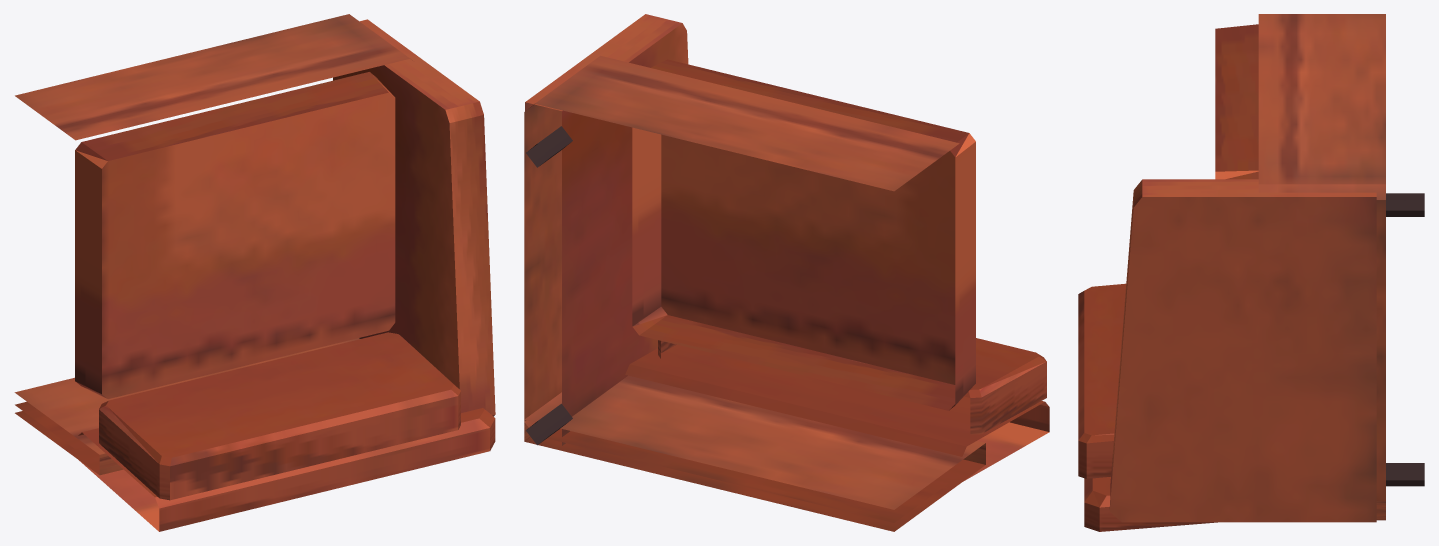
Rendered from pz_sofa_seating_indoor_01_red_comfy_1_0_fidelity_r1.obj.
3 views of the same model, side by side, from view 1: azimuth 30°, elevation 25°; view 2: azimuth 150°, elevation 25°; view 3: azimuth 270°, elevation 25° (orthographic). The views are drawn at different scales.
Visible parts, largest first — view 1: pz_sofa_seating_indoor_01_red_comfy_1_0__seat_1__seat, pz_sofa_seating_indoor_01_red_comfy_1_0__back_cushion_1__back, pz_sofa_seating_indoor_01_red_comfy_1_0__straight_arm_1__arm, pz_sofa_seating_indoor_01_red_comfy_1_0__lower_body__body, pz_sofa_seating_indoor_01_red_comfy_1_0__rear_shell__back, pz_sofa_seating_indoor_01_red_comfy_1_0__rear_body_bridge__body; view 2: pz_sofa_seating_indoor_01_red_comfy_1_0__seat_1__seat, pz_sofa_seating_indoor_01_red_comfy_1_0__lower_body__body, pz_sofa_seating_indoor_01_red_comfy_1_0__rear_body_bridge__body, pz_sofa_seating_indoor_01_red_comfy_1_0__straight_arm_1__arm, pz_sofa_seating_indoor_01_red_comfy_1_0__rear_shell__back, pz_sofa_seating_indoor_01_red_comfy_1_0__back_cushion_1__back, pz_sofa_seating_indoor_01_red_comfy_1_0__foot_1_-1__frame, pz_sofa_seating_indoor_01_red_comfy_1_0__foot_1_1__frame; view 3: pz_sofa_seating_indoor_01_red_comfy_1_0__straight_arm_1__arm, pz_sofa_seating_indoor_01_red_comfy_1_0__lower_body__body, pz_sofa_seating_indoor_01_red_comfy_1_0__back_cushion_1__back, pz_sofa_seating_indoor_01_red_comfy_1_0__seat_1__seat, pz_sofa_seating_indoor_01_red_comfy_1_0__rear_shell__back, pz_sofa_seating_indoor_01_red_comfy_1_0__foot_1_-1__frame, pz_sofa_seating_indoor_01_red_comfy_1_0__foot_1_1__frame.
Part boxes in pixels (bbox=[...]): pz_sofa_seating_indoor_01_red_comfy_1_0__seat_1__seat: bbox=[75, 72, 395, 398]; pz_sofa_seating_indoor_01_red_comfy_1_0__back_cushion_1__back: bbox=[99, 332, 460, 500]; pz_sofa_seating_indoor_01_red_comfy_1_0__straight_arm_1__arm: bbox=[333, 19, 495, 416]; pz_sofa_seating_indoor_01_red_comfy_1_0__lower_body__body: bbox=[15, 14, 412, 449]; pz_sofa_seating_indoor_01_red_comfy_1_0__rear_shell__back: bbox=[78, 408, 495, 531]; pz_sofa_seating_indoor_01_red_comfy_1_0__rear_body_bridge__body: bbox=[14, 338, 359, 475]; pz_sofa_seating_indoor_01_red_comfy_1_0__seat_1__seat: bbox=[632, 59, 975, 410]; pz_sofa_seating_indoor_01_red_comfy_1_0__lower_body__body: bbox=[524, 55, 959, 522]; pz_sofa_seating_indoor_01_red_comfy_1_0__rear_body_bridge__body: bbox=[524, 375, 985, 531]; pz_sofa_seating_indoor_01_red_comfy_1_0__straight_arm_1__arm: bbox=[525, 14, 688, 445]; pz_sofa_seating_indoor_01_red_comfy_1_0__rear_shell__back: bbox=[625, 344, 1049, 481]; pz_sofa_seating_indoor_01_red_comfy_1_0__back_cushion_1__back: bbox=[658, 338, 1046, 434]; pz_sofa_seating_indoor_01_red_comfy_1_0__foot_1_-1__frame: bbox=[526, 403, 572, 445]; pz_sofa_seating_indoor_01_red_comfy_1_0__foot_1_1__frame: bbox=[526, 126, 572, 167]; pz_sofa_seating_indoor_01_red_comfy_1_0__straight_arm_1__arm: bbox=[1109, 179, 1376, 522]; pz_sofa_seating_indoor_01_red_comfy_1_0__lower_body__body: bbox=[1258, 14, 1385, 500]; pz_sofa_seating_indoor_01_red_comfy_1_0__back_cushion_1__back: bbox=[1078, 283, 1126, 478]; pz_sofa_seating_indoor_01_red_comfy_1_0__seat_1__seat: bbox=[1215, 24, 1258, 179]; pz_sofa_seating_indoor_01_red_comfy_1_0__rear_shell__back: bbox=[1084, 477, 1217, 531]; pz_sofa_seating_indoor_01_red_comfy_1_0__foot_1_-1__frame: bbox=[1386, 463, 1424, 486]; pz_sofa_seating_indoor_01_red_comfy_1_0__foot_1_1__frame: bbox=[1386, 193, 1424, 216].
Bounding box in the file's own units: 0.8533 × 0.7726 × 0.7038.
1 material, 1 textured.
